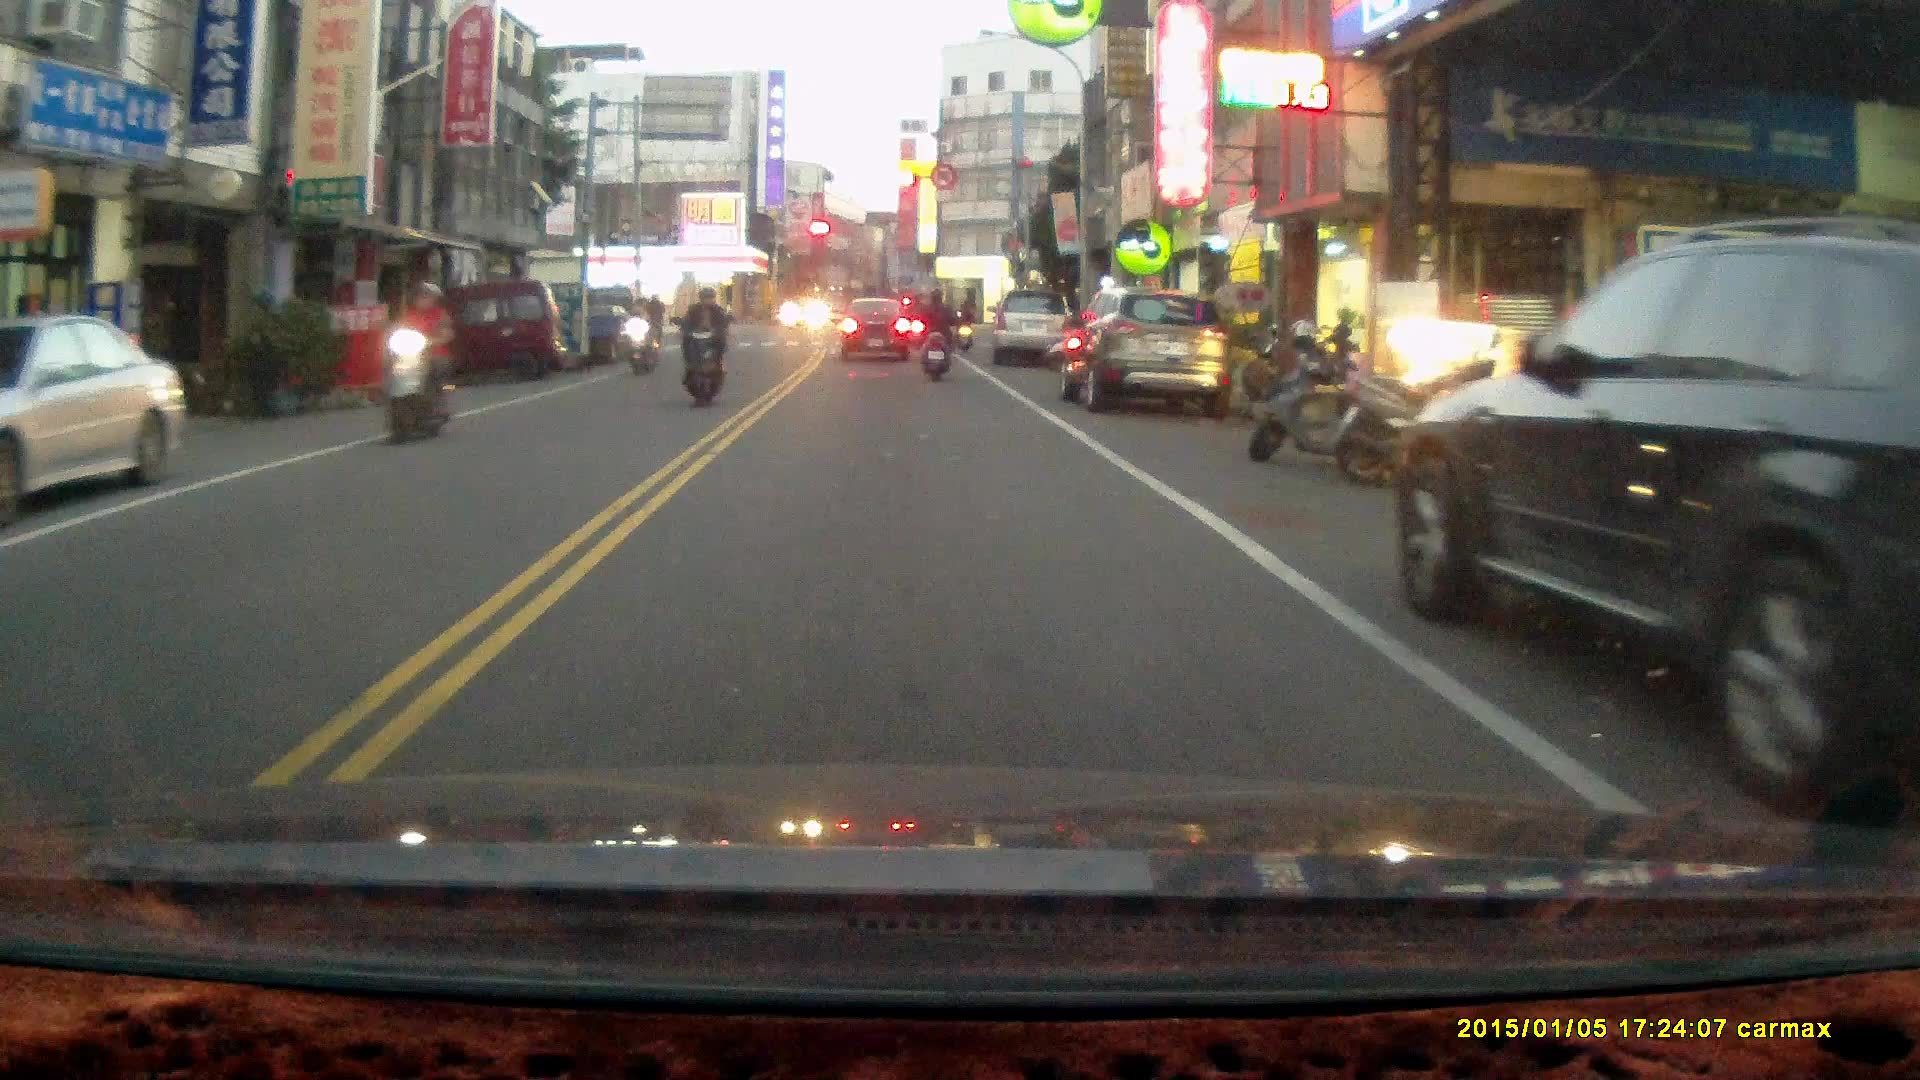rider: (380, 279, 459, 443), (676, 280, 724, 406), (914, 285, 955, 382), (622, 289, 660, 376), (954, 294, 977, 353)
vehicle: (1390, 230, 1920, 806), (1, 315, 183, 516), (1059, 288, 1230, 411), (405, 277, 571, 383), (996, 283, 1075, 363)
